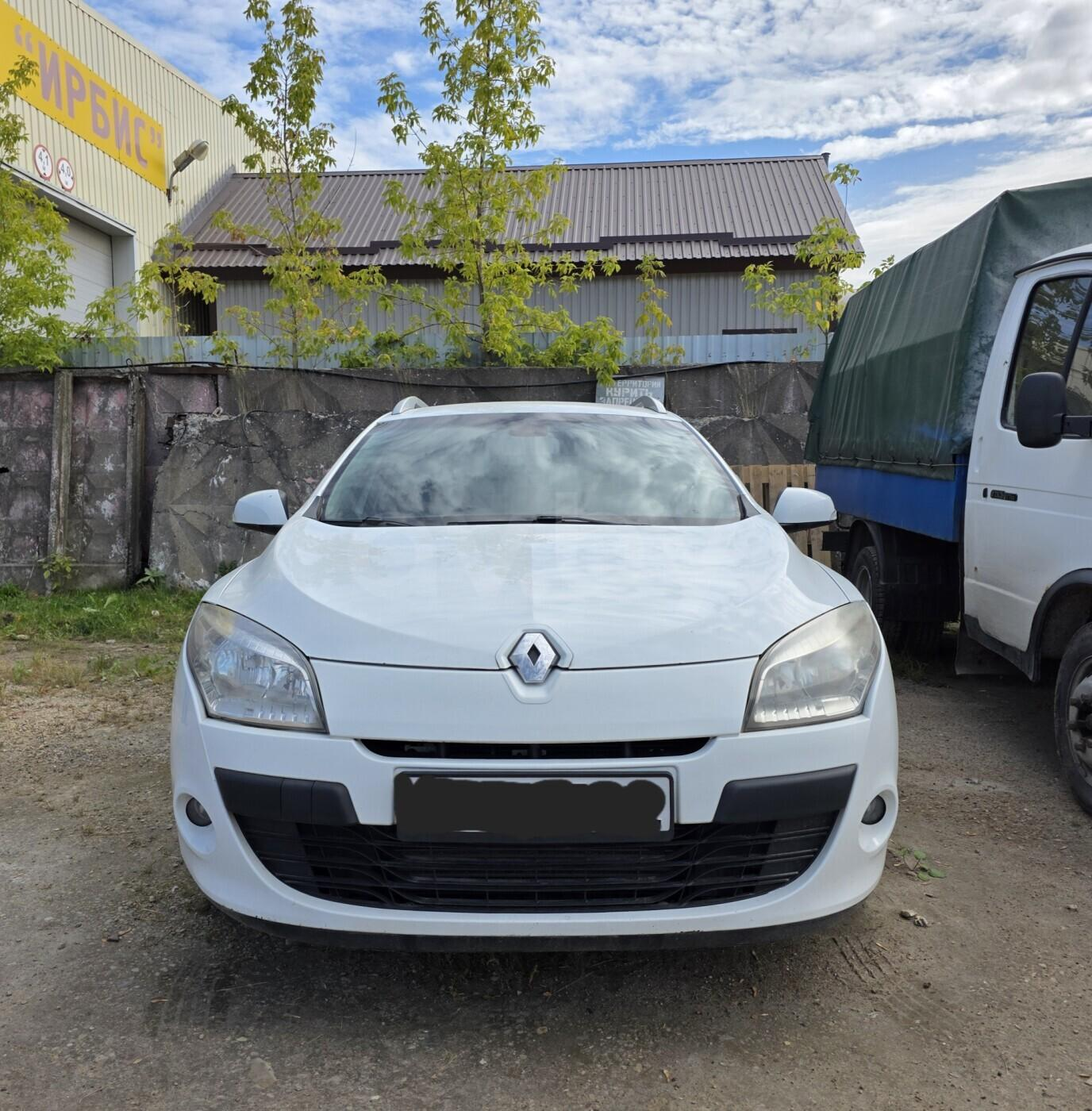Megane_2008-2014: (168, 403, 908, 957)
